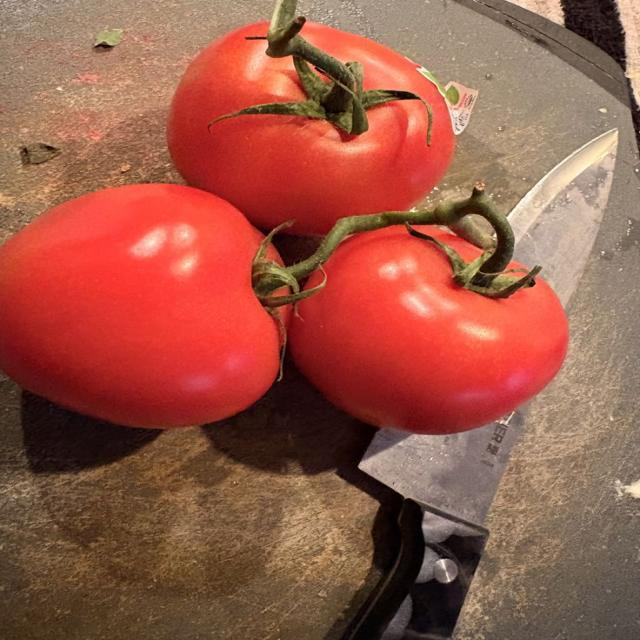tomato: (0, 184, 279, 427), (168, 23, 453, 234), (289, 228, 567, 433)
